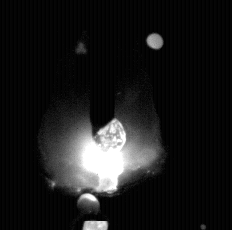arame: (90, 0, 116, 137)
poca: (37, 0, 162, 230)
